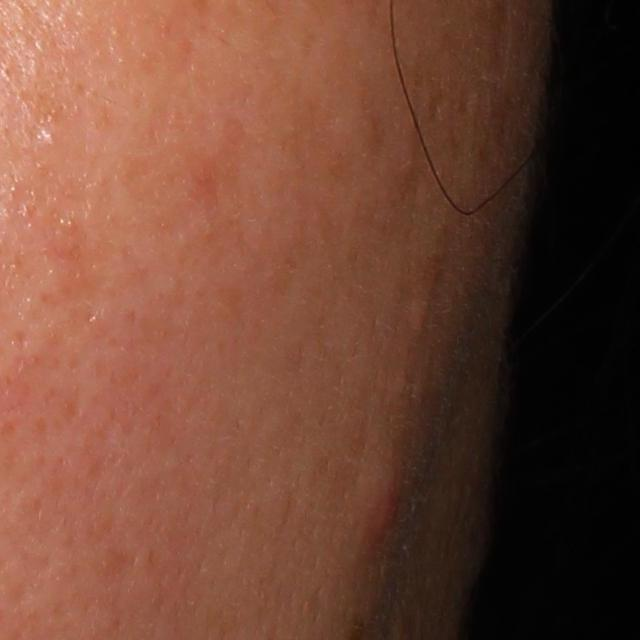papule: (360, 472, 397, 551)
